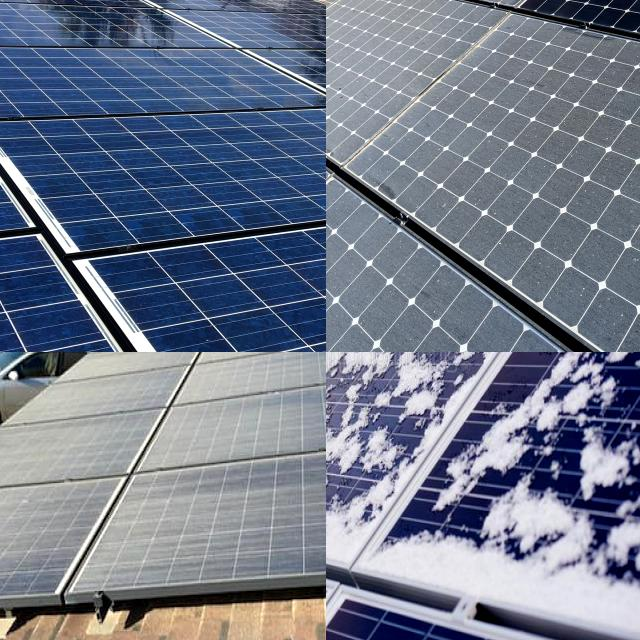crack: (0, 114, 326, 260)
dust: (143, 460, 326, 565), (440, 75, 528, 224), (540, 140, 618, 302), (0, 496, 127, 574), (326, 2, 411, 103), (326, 267, 454, 318), (167, 397, 326, 438), (0, 424, 127, 465), (447, 0, 561, 28), (205, 352, 326, 374), (53, 382, 165, 404), (618, 275, 640, 352), (235, 352, 326, 369), (93, 352, 201, 364), (144, 352, 200, 370)
panel: (387, 529, 640, 639), (460, 357, 570, 552), (576, 352, 640, 573), (326, 467, 469, 565), (326, 352, 436, 441), (497, 352, 640, 399), (384, 352, 529, 395), (372, 352, 476, 403), (326, 352, 377, 452), (326, 352, 397, 403), (326, 352, 378, 403), (326, 352, 372, 407), (326, 352, 388, 381), (326, 445, 350, 494)
